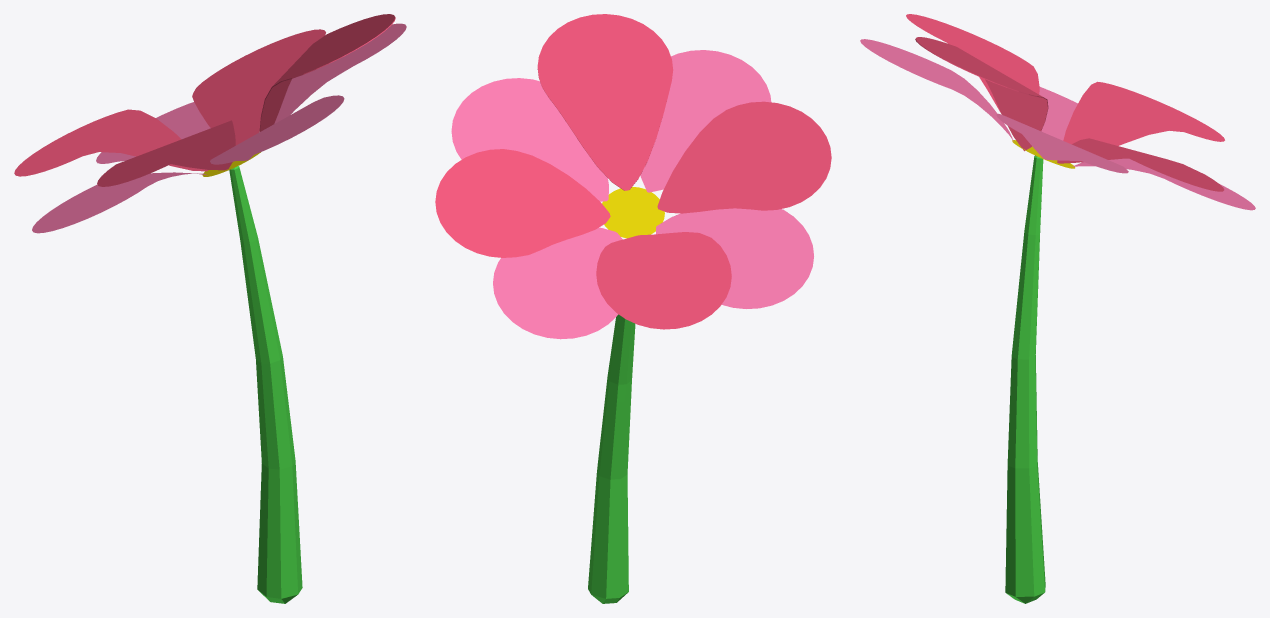
3 views of the same model, side by side, from view 1: azimuth 30°, elevation 25°; view 2: azimuth 150°, elevation 25°; view 3: azimuth 270°, elevation 25° (orthographic). The views are drawn at different scales.
Parts seen in each view (by area): view 1: Flower; view 2: Flower; view 3: Flower.
Boxes of the visible parts, <box> form: Flower: <box>14,14,406,603</box>; Flower: <box>435,14,831,603</box>; Flower: <box>860,14,1255,603</box>.
Bounding box in the file's own units: 0.3032 × 0.4665 × 0.2906.
